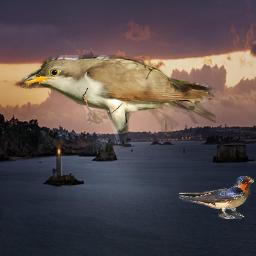Cuckoo: (20, 55, 216, 148)
Swallow: (179, 176, 254, 219)
